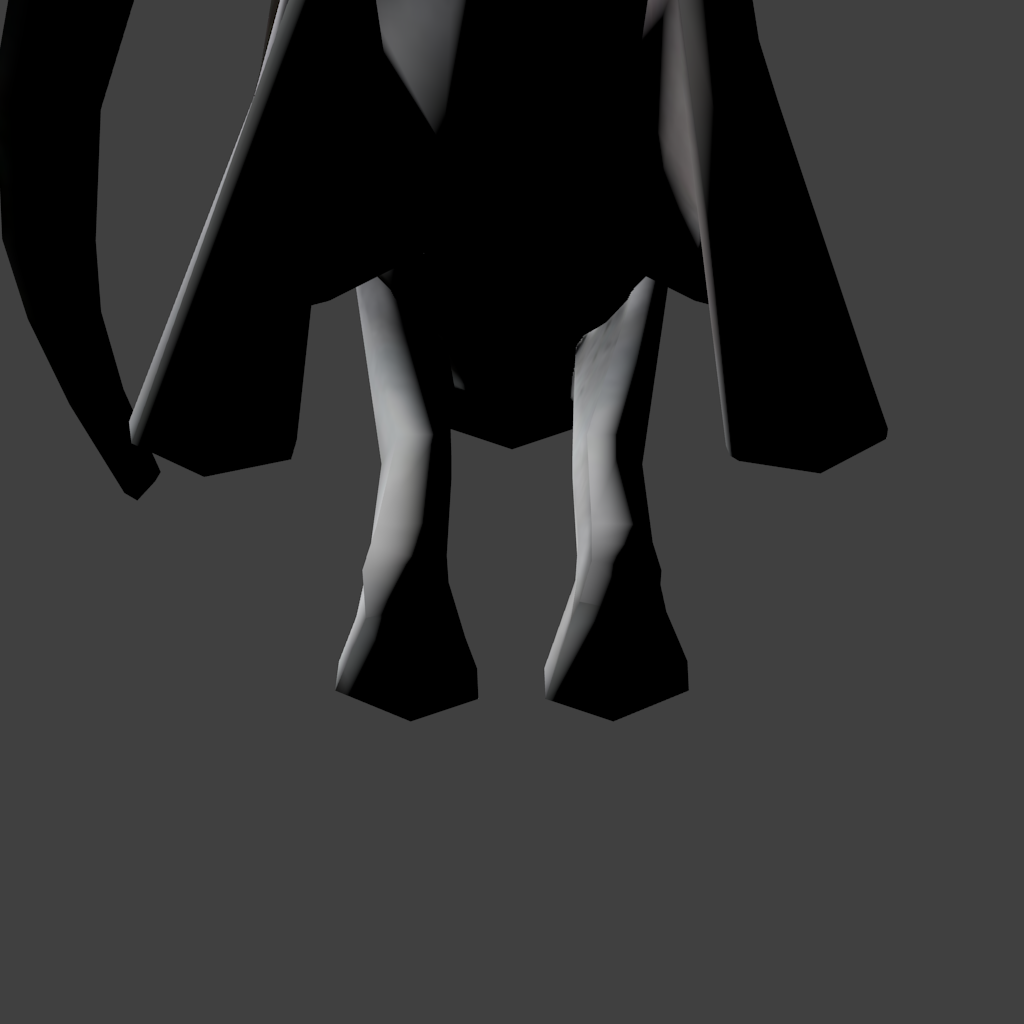Cat: (0, 0, 888, 722)
